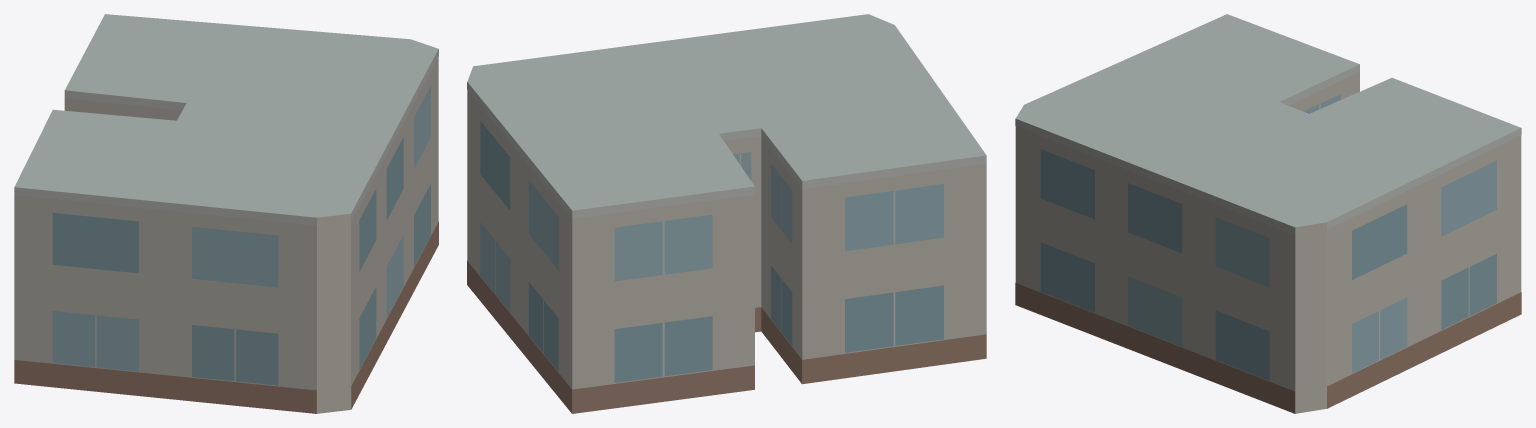
Rendered from survey-upis-32918304.glb.
3 renders of one model, left to right at view 1: azimuth 30°, elevation 25°; view 2: azimuth 150°, elevation 25°; view 3: azimuth 270°, elevation 25°, orthographic. The views are drawn at different scales.
Parts seen in each view (by area): view 1: survey-upis-32918304.tmp; view 2: survey-upis-32918304.tmp; view 3: survey-upis-32918304.tmp.
Boxes of the visible parts, left/top/right/bottom form: survey-upis-32918304.tmp: left=14, top=14, right=438, bottom=413; survey-upis-32918304.tmp: left=467, top=14, right=986, bottom=413; survey-upis-32918304.tmp: left=1015, top=14, right=1521, bottom=413.
Bounding box in the file's own units: 14.98 × 6.1 × 15.
